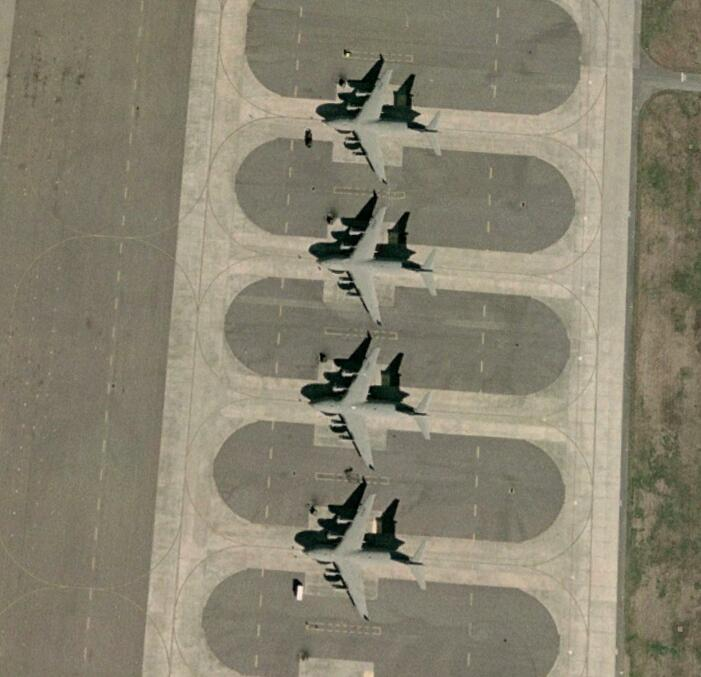A3: (303, 493, 426, 624), (306, 346, 435, 469), (315, 206, 440, 327), (322, 65, 443, 183)
